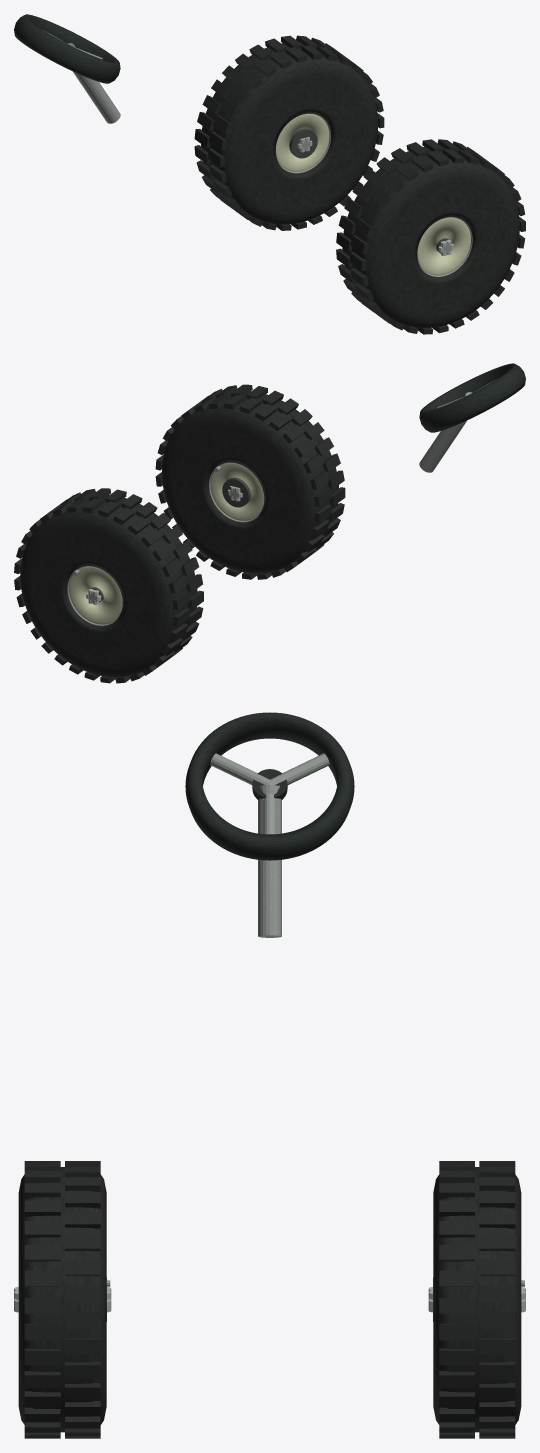
Rendered from PZ_FIELDWARD_75D_Front_Steering_Wheels.glb.
The picture shows the model from 3 angles, top to bottom: view 1: azimuth 30°, elevation 25°; view 2: azimuth 150°, elevation 25°; view 3: azimuth 270°, elevation 25°; orthographic projection. The views are drawn at different scales.
Parts seen in each view (by area): view 1: FRONT_R__Tire_Sidewall_Tread_Watertight, FRONT_L__Tire_Sidewall_Tread_Watertight, FRONT_R__Staggered_Directional_TreadLugs, FRONT_L__Staggered_Directional_TreadLugs, Steering_Handwheel_ClosedVinylRim, FRONT_R__Pressed_White_Rim, FRONT_L__Pressed_White_Rim, Steering_Column_TelescopicShaft, FRONT_L_SteeringKnuckle; view 2: FRONT_L__Tire_Sidewall_Tread_Watertight, FRONT_R__Tire_Sidewall_Tread_Watertight, FRONT_L__Staggered_Directional_TreadLugs, FRONT_R__Staggered_Directional_TreadLugs, Steering_Handwheel_ClosedVinylRim, FRONT_L__Pressed_White_Rim, FRONT_R__Pressed_White_Rim, Steering_Column_TelescopicShaft, FRONT_R_SteeringKnuckle; view 3: FRONT_R__Staggered_Directional_TreadLugs, FRONT_L__Staggered_Directional_TreadLugs, Steering_Handwheel_ClosedVinylRim, FRONT_L__Tire_Sidewall_Tread_Watertight, FRONT_R__Tire_Sidewall_Tread_Watertight, Steering_Column_TelescopicShaft.
Part boxes in pixels (<box>): FRONT_R__Tire_Sidewall_Tread_Watertight: <box>342,146,519,327</box>; FRONT_L__Tire_Sidewall_Tread_Watertight: <box>201,42,378,224</box>; FRONT_R__Staggered_Directional_TreadLugs: <box>336,139,525,334</box>; FRONT_L__Staggered_Directional_TreadLugs: <box>194,35,384,230</box>; Steering_Handwheel_ClosedVinylRim: <box>14,14,120,83</box>; FRONT_R__Pressed_White_Rim: <box>417,217,470,275</box>; FRONT_L__Pressed_White_Rim: <box>276,114,329,171</box>; Steering_Column_TelescopicShaft: <box>67,43,120,123</box>; FRONT_L_SteeringKnuckle: <box>289,128,317,158</box>; FRONT_L__Tire_Sidewall_Tread_Watertight: <box>20,495,197,676</box>; FRONT_R__Tire_Sidewall_Tread_Watertight: <box>162,391,338,573</box>; FRONT_L__Staggered_Directional_TreadLugs: <box>14,488,203,683</box>; FRONT_R__Staggered_Directional_TreadLugs: <box>155,384,345,579</box>; Steering_Handwheel_ClosedVinylRim: <box>419,363,525,432</box>; FRONT_L__Pressed_White_Rim: <box>69,566,122,624</box>; FRONT_R__Pressed_White_Rim: <box>210,463,264,520</box>; Steering_Column_TelescopicShaft: <box>419,392,472,472</box>; FRONT_R_SteeringKnuckle: <box>222,477,250,507</box>; FRONT_R__Staggered_Directional_TreadLugs: <box>24,1161,100,1438</box>; FRONT_L__Staggered_Directional_TreadLugs: <box>439,1161,515,1438</box>; Steering_Handwheel_ClosedVinylRim: <box>185,712,354,860</box>; FRONT_L__Tire_Sidewall_Tread_Watertight: <box>433,1167,521,1432</box>; FRONT_R__Tire_Sidewall_Tread_Watertight: <box>18,1167,106,1432</box>; Steering_Column_TelescopicShaft: <box>258,785,281,937</box>.
Bounding box in the file's own units: 2.64 × 1.96 × 1.9.
6 materials, 6 textured.
